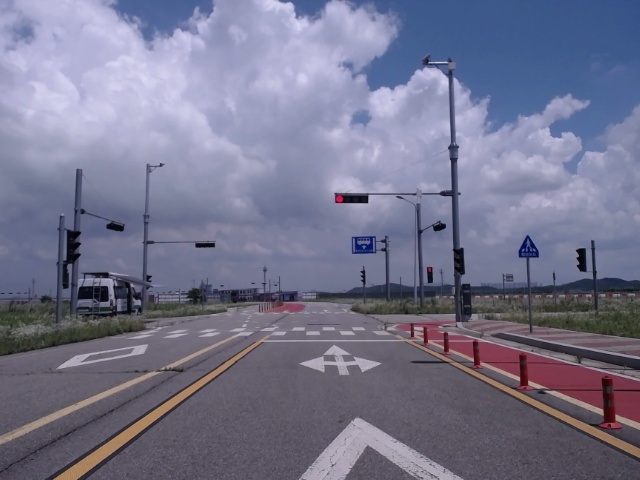red_4: (335, 194, 368, 203)
